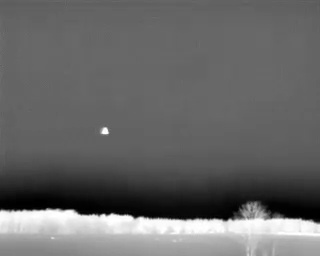BIRD: (97, 124, 113, 139)
